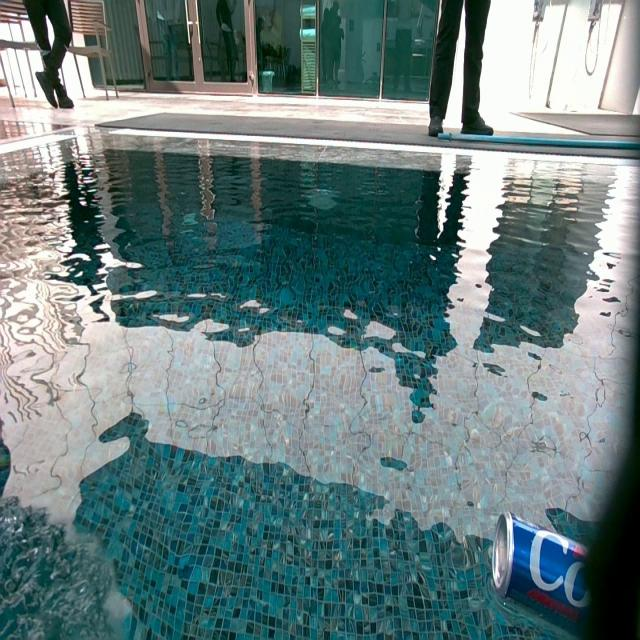Cans: (492, 511, 600, 640)
